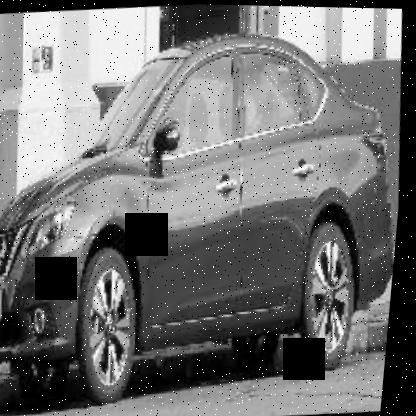not_emergency: (0, 22, 414, 415)
